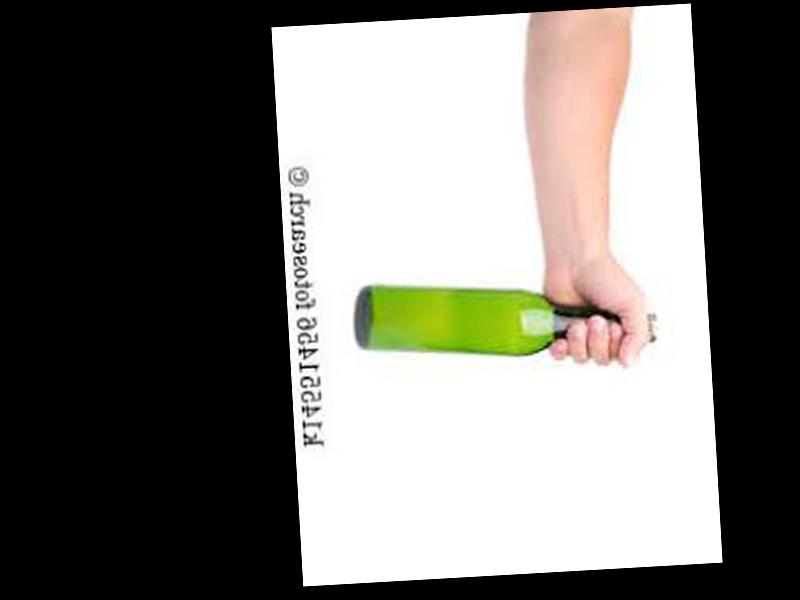Beer: (352, 267, 656, 365)
